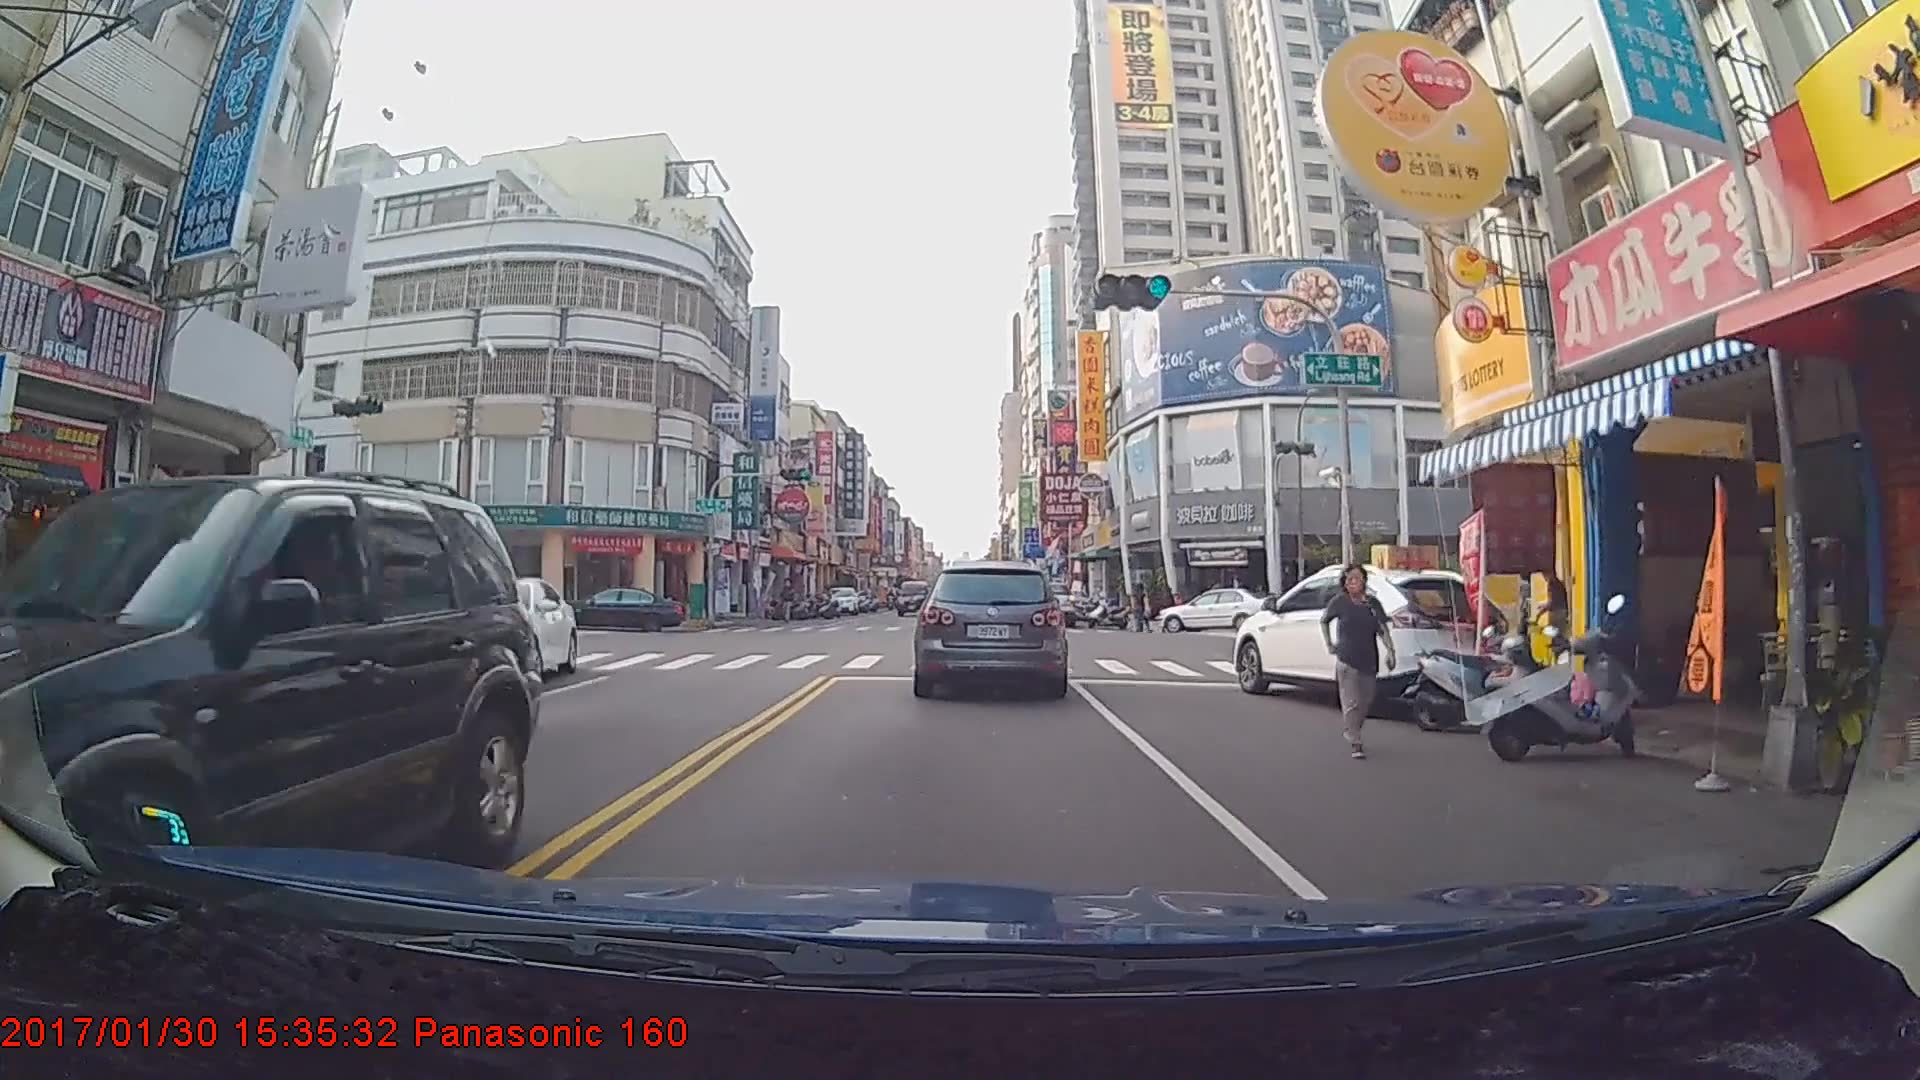pedestrian: (1326, 560, 1396, 756)
vehicle: (0, 474, 539, 954), (1232, 565, 1508, 717), (913, 558, 1067, 699), (427, 574, 577, 682), (552, 584, 687, 633), (1152, 586, 1281, 633), (894, 582, 930, 618), (819, 587, 860, 616)
